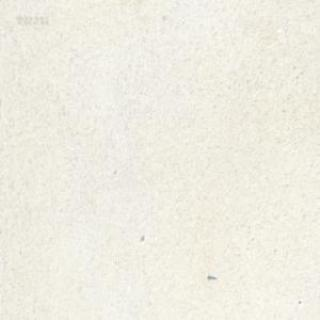Nailtrack_idkeyframe: (206, 272, 216, 280)
